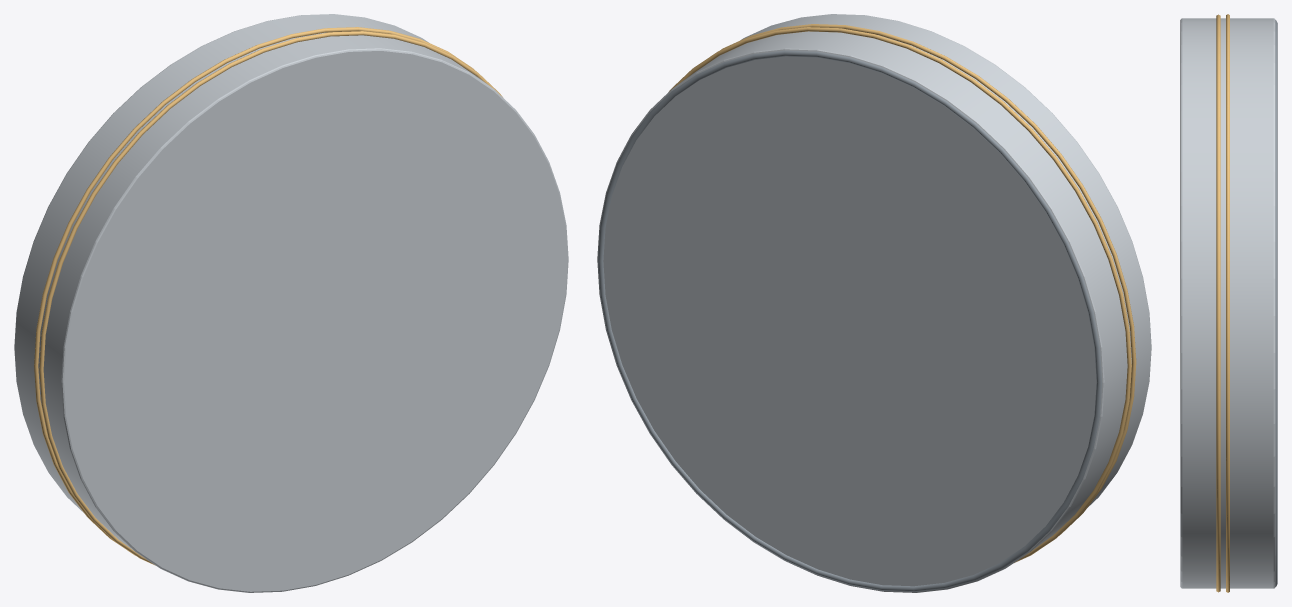
File: decoupler-standard.glb
3 renders of one model, left to right at view 1: azimuth 30°, elevation 25°; view 2: azimuth 150°, elevation 25°; view 3: azimuth 270°, elevation 25°, orthographic. The views are drawn at different scales.
Visible parts, largest first — view 1: ring, dock_stripe, shaped_charge; view 2: ring, aft_mount_flange, shaped_charge, dock_stripe; view 3: ring, dock_stripe, shaped_charge, aft_mount_flange.
Part boxes in pixels (<box>): ring: <box>14,14,568,592</box>; dock_stripe: <box>39,31,502,565</box>; shaped_charge: <box>34,27,476,555</box>; ring: <box>597,14,1151,592</box>; aft_mount_flange: <box>598,50,1102,591</box>; shaped_charge: <box>669,27,1131,562</box>; dock_stripe: <box>720,24,1136,533</box>; ring: <box>1180,18,1275,588</box>; dock_stripe: <box>1216,14,1220,592</box>; shaped_charge: <box>1226,14,1229,592</box>; aft_mount_flange: <box>1275,20,1277,586</box>.
Bounding box in the file's own units: 6.09 × 6.09 × 1.02.
